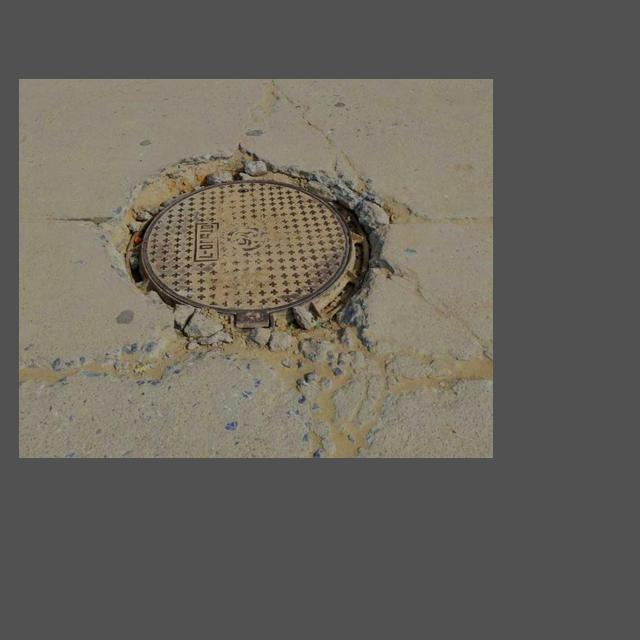circle: (88, 146, 411, 357)
